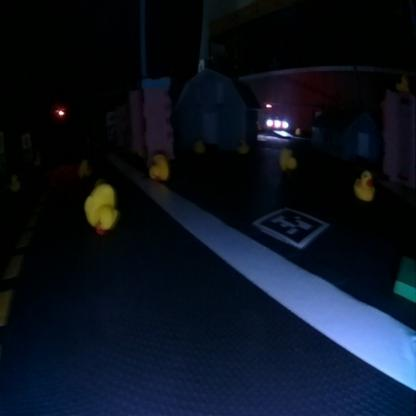Duckie: (84, 184, 118, 230), (352, 171, 375, 200), (148, 152, 169, 181), (278, 147, 296, 170), (394, 74, 410, 90), (78, 160, 90, 175), (193, 138, 205, 152), (9, 173, 17, 188)
QR code: (257, 205, 324, 248)
Traffic light: (57, 107, 64, 116)
